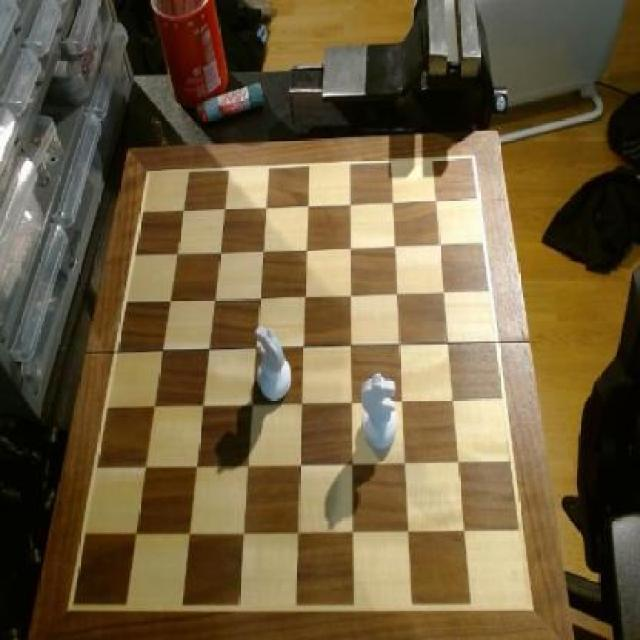white-king: (362, 372, 402, 454), (257, 325, 294, 403)
